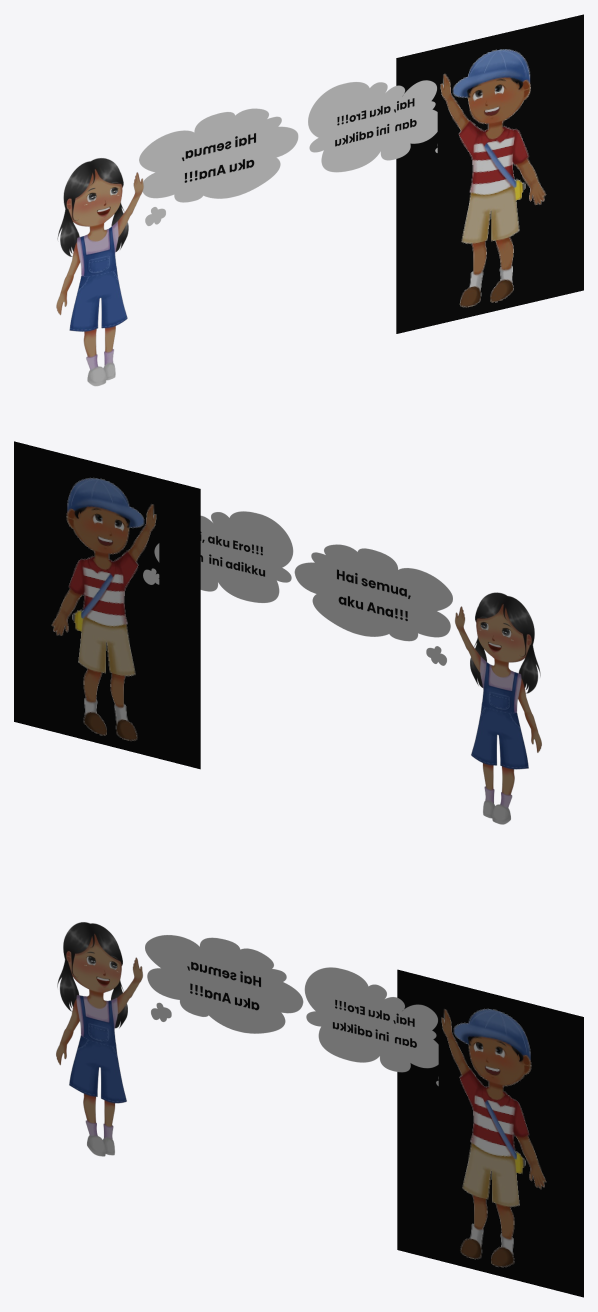
3 views of the same model, one above another, from view 1: azimuth 30°, elevation 25°; view 2: azimuth 150°, elevation 25°; view 3: azimuth 330°, elevation 25° (orthographic).
Visible parts, largest first — view 1: Boy_Chara_PNG-removebg-preview, Girl_PNG-removebg-preview, buble2-v2, buble1-v2; view 2: Boy_Chara_PNG-removebg-preview, Girl_PNG-removebg-preview, buble2-v2, buble1-v2; view 3: Boy_Chara_PNG-removebg-preview, Girl_PNG-removebg-preview, buble2-v2, buble1-v2.
Boxes of the visible parts, x1,y1,x2,y2 form: Boy_Chara_PNG-removebg-preview: (396, 14, 583, 333); Girl_PNG-removebg-preview: (56, 158, 143, 386); buble2-v2: (139, 108, 298, 225); buble1-v2: (308, 80, 437, 172); Boy_Chara_PNG-removebg-preview: (14, 441, 200, 769); Girl_PNG-removebg-preview: (455, 592, 541, 824); buble2-v2: (294, 544, 452, 665); buble1-v2: (143, 511, 293, 602); Boy_Chara_PNG-removebg-preview: (397, 969, 583, 1297); Girl_PNG-removebg-preview: (56, 922, 142, 1156); buble2-v2: (145, 935, 303, 1033); buble1-v2: (304, 967, 438, 1085).
Size of the model in its own units: 12.54 by 5.85 by 0.2458.
Materials: 4 (4 with a texture image).
